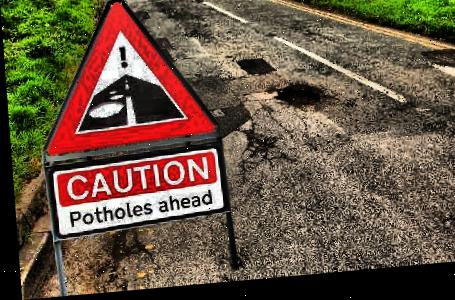pothole: (271, 85, 330, 118)
